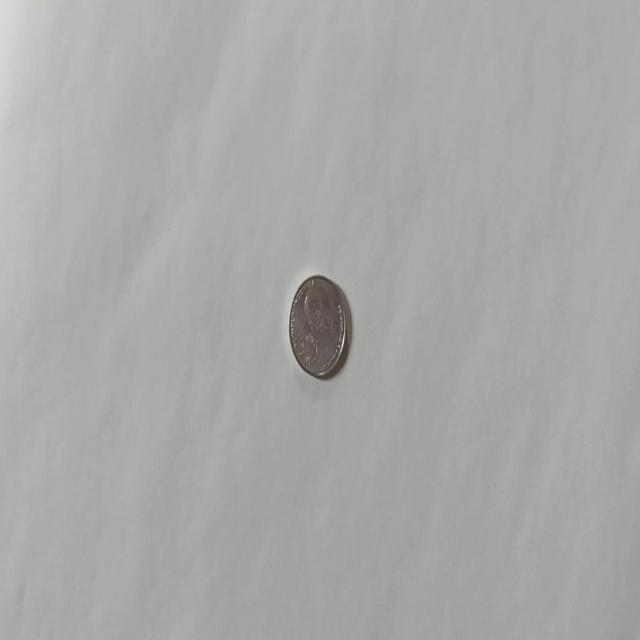lima ratus rupiah: (287, 273, 347, 379)
